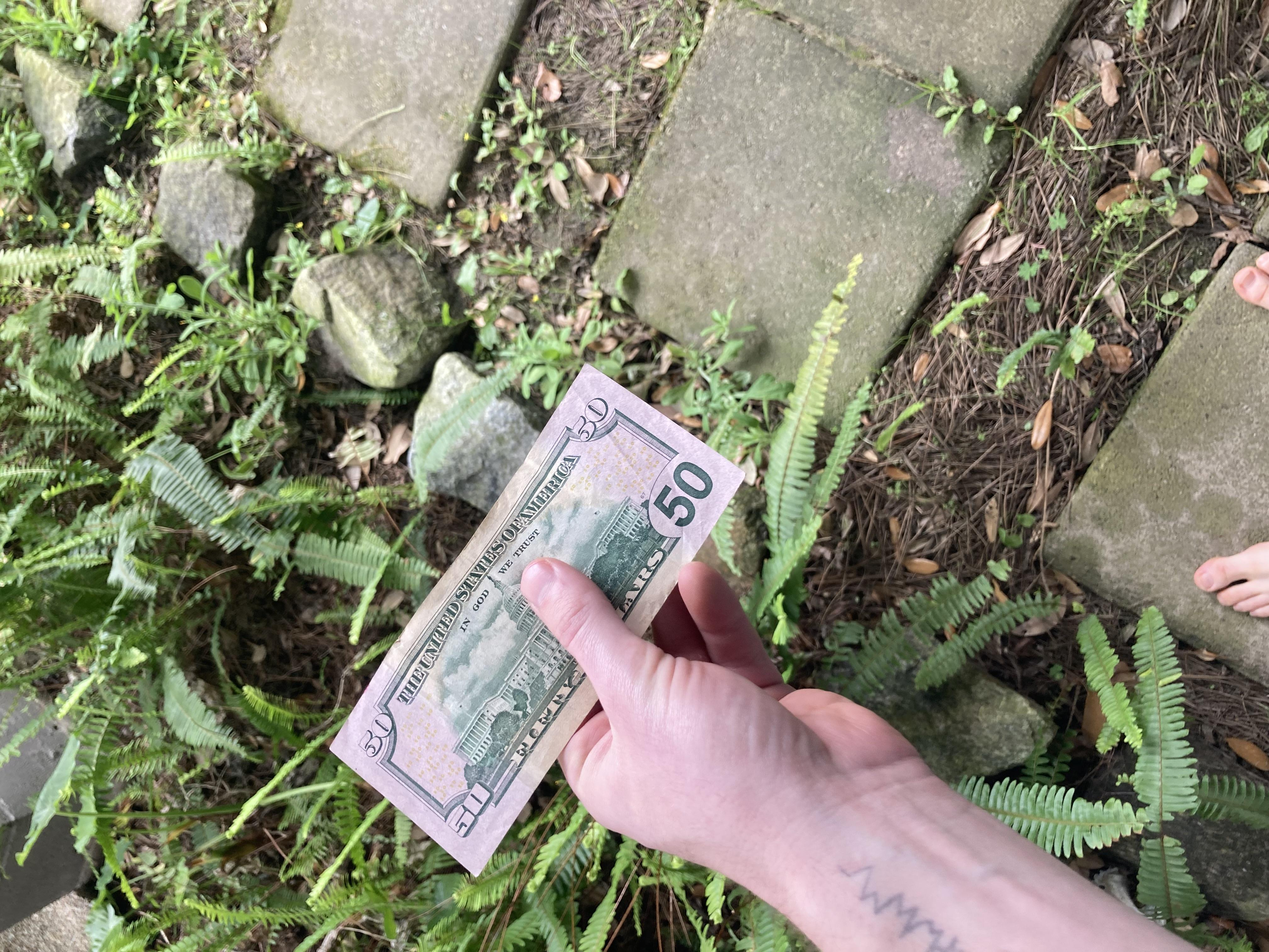fifty-back: (101, 246, 786, 562)
